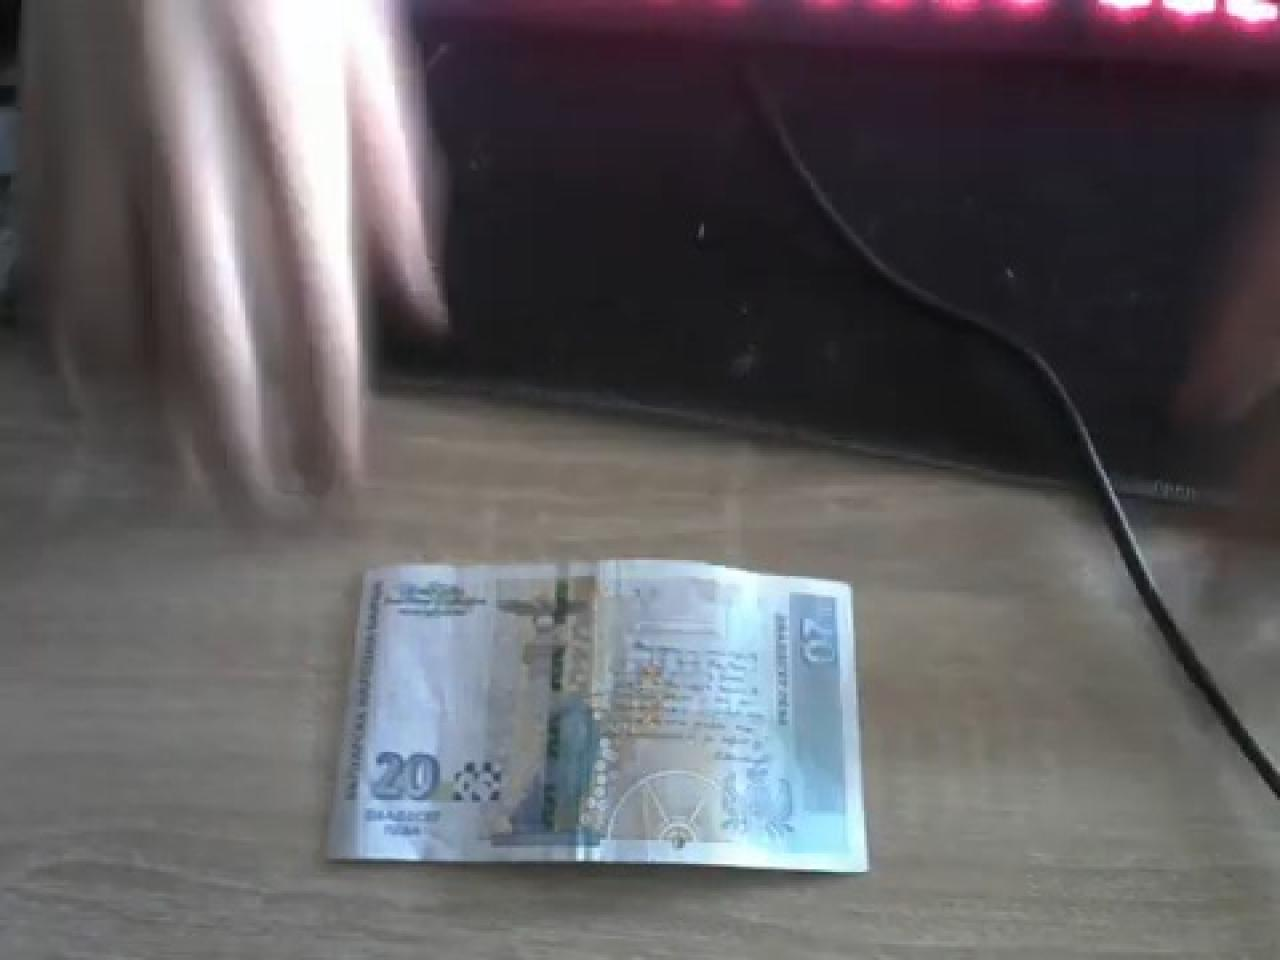20leva: (323, 565, 557, 867)
